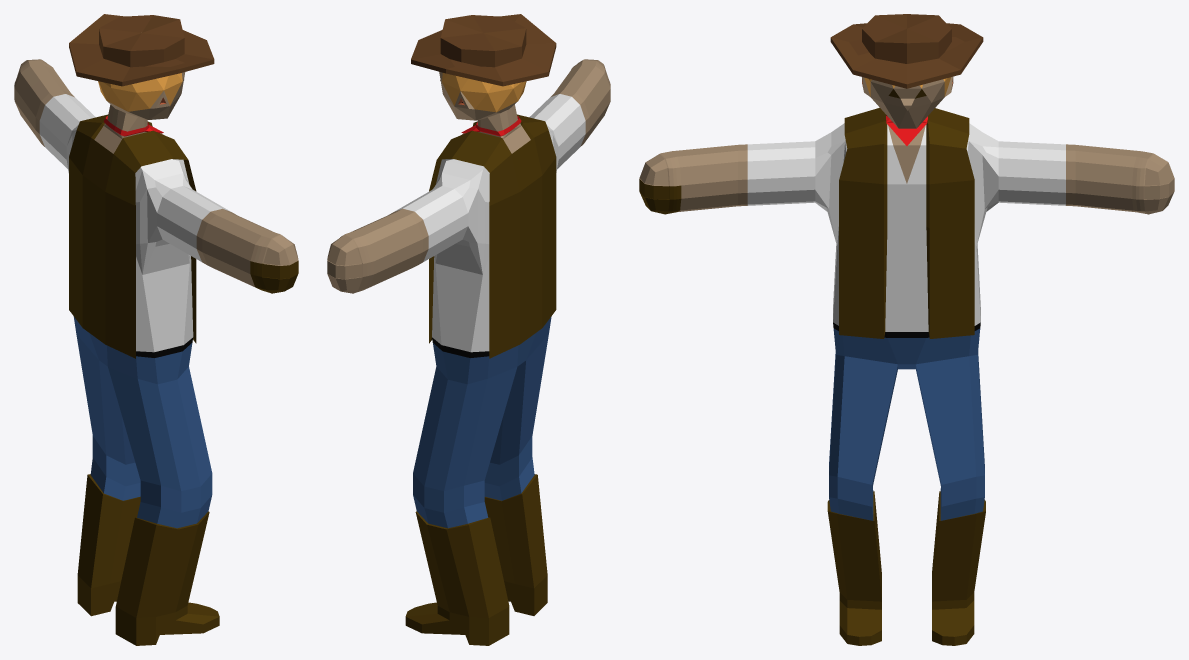
File: WildWestPlayer.fbx
The picture shows the model from 3 angles, left to right: view 1: azimuth 30°, elevation 25°; view 2: azimuth 150°, elevation 25°; view 3: azimuth 270°, elevation 25°; orthographic projection.
Parts seen in each view (by area): view 1: Cube, Cylinder; view 2: Cube, Cylinder; view 3: Cube, Cylinder.
Part boxes in pixels (left/top/right/bottom): Cube: left=14, top=59, right=298, bottom=645; Cylinder: left=69, top=14, right=214, bottom=86; Cube: left=327, top=59, right=610, bottom=645; Cylinder: left=411, top=14, right=556, bottom=86; Cube: left=639, top=76, right=1174, bottom=645; Cylinder: left=830, top=14, right=983, bottom=88.
Bounding box in the file's own units: 206 × 889 × 724.
